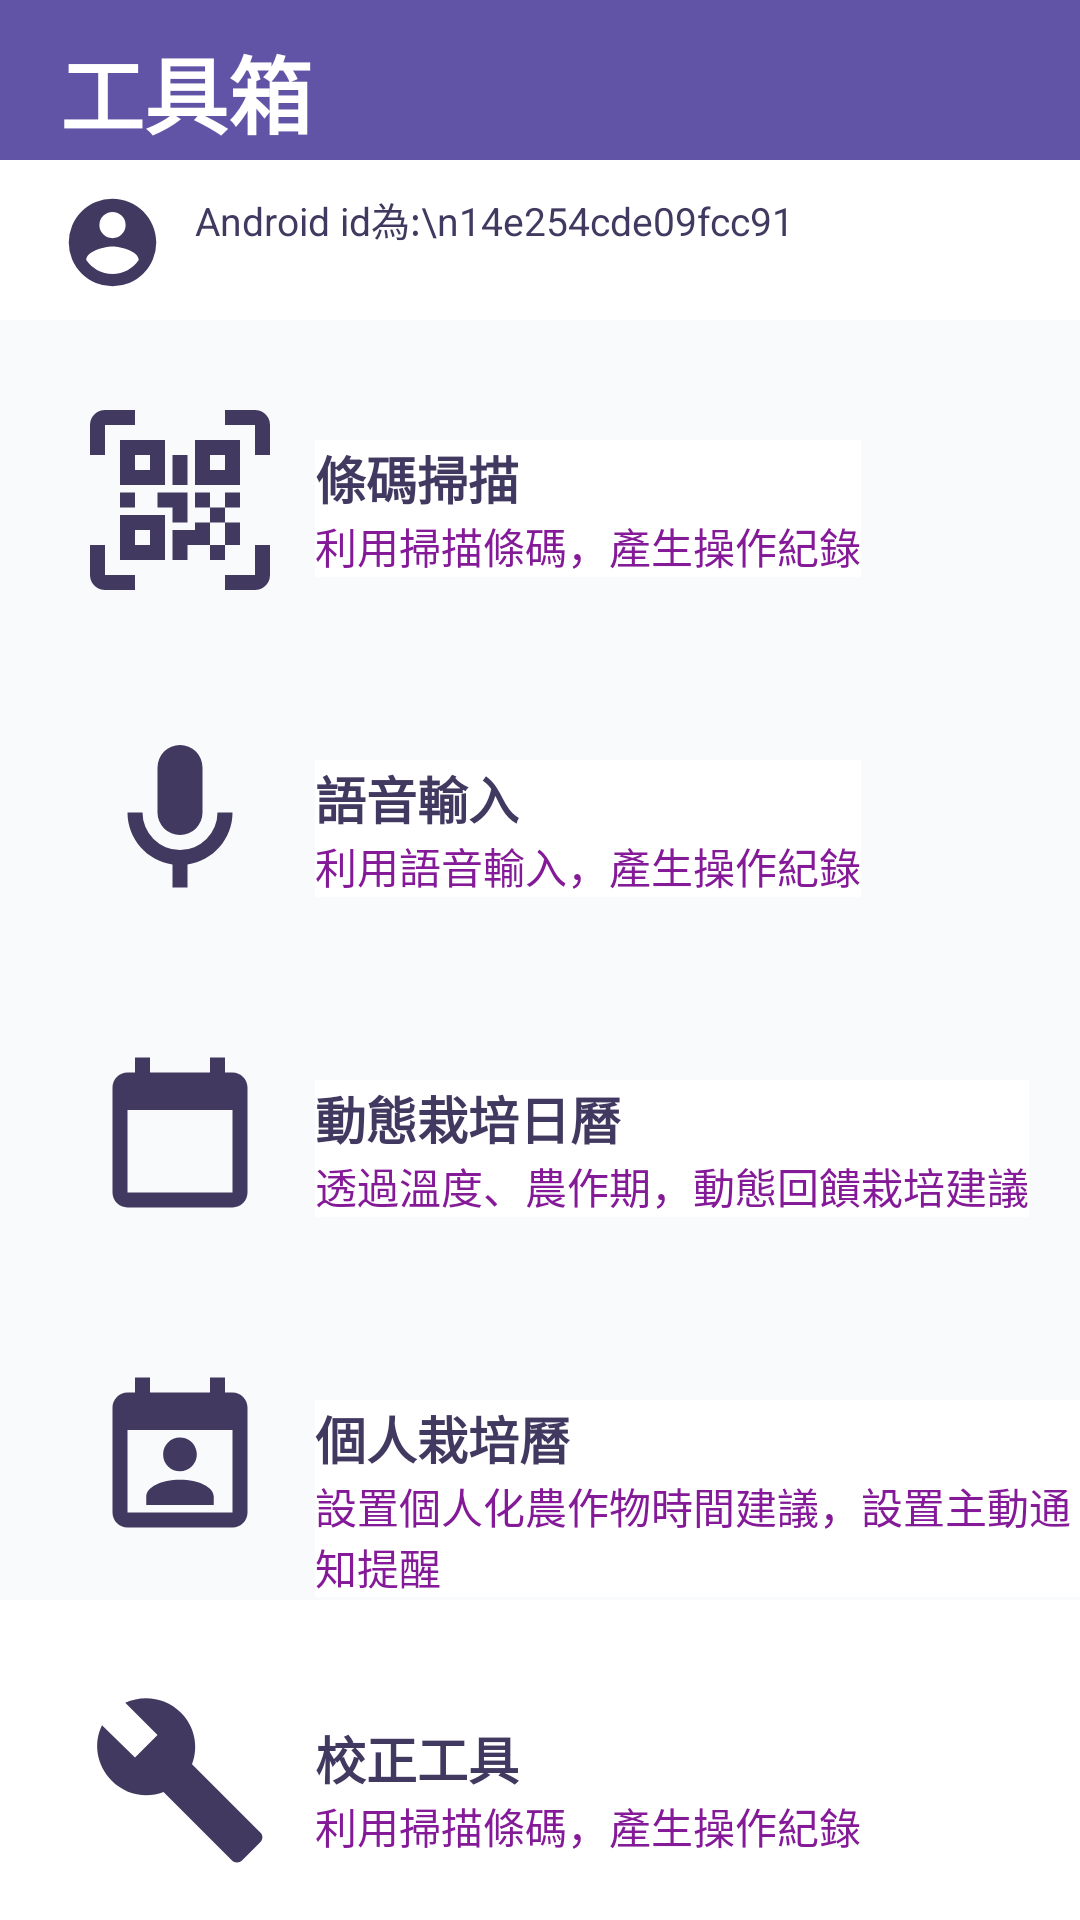

Screen size 1080px x 1920px. Icon name, then its center in pixels as point (x, y):
account circle: point (112, 242)
calendar account: point (180, 1452)
calendar blank: point (180, 1132)
microphone: point (180, 816)
qrcode scan: point (180, 500)
tool: point (180, 1780)
